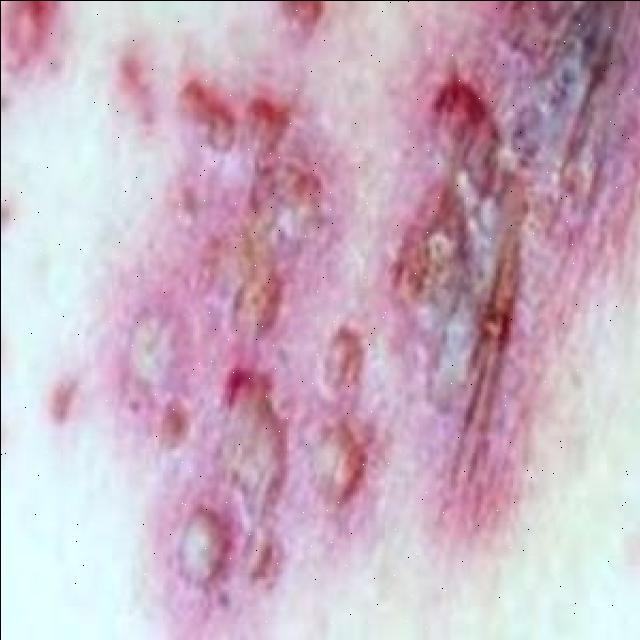Shingles: (128, 0, 640, 593)
